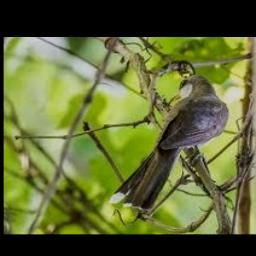Cuckoo: (107, 75, 229, 212)
